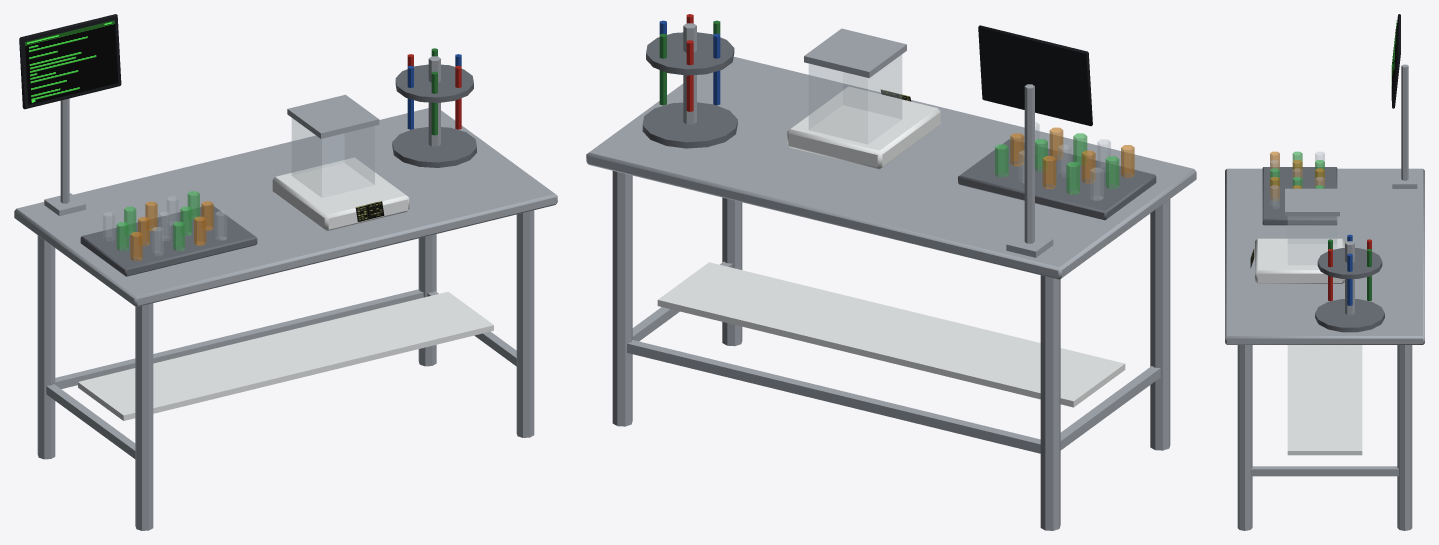
File: labbench_sample_prep_table.glb
3 renders of one model, left to right at view 1: azimuth 30°, elevation 25°; view 2: azimuth 150°, elevation 25°; view 3: azimuth 270°, elevation 25°, orthographic. The views are drawn at different scales.
Parts seen in each view (by area): view 1: labbench_sample_prep_table; view 2: labbench_sample_prep_table; view 3: labbench_sample_prep_table.
Boxes of the visible parts, x1=… form: labbench_sample_prep_table: x1=14, y1=14, x2=557, y2=530; labbench_sample_prep_table: x1=586, y1=14, x2=1196, y2=530; labbench_sample_prep_table: x1=1225, y1=14, x2=1424, y2=530.
Size of the model in its own units: 1.63 by 1.54 by 0.8.
12 materials, 2 textured.
